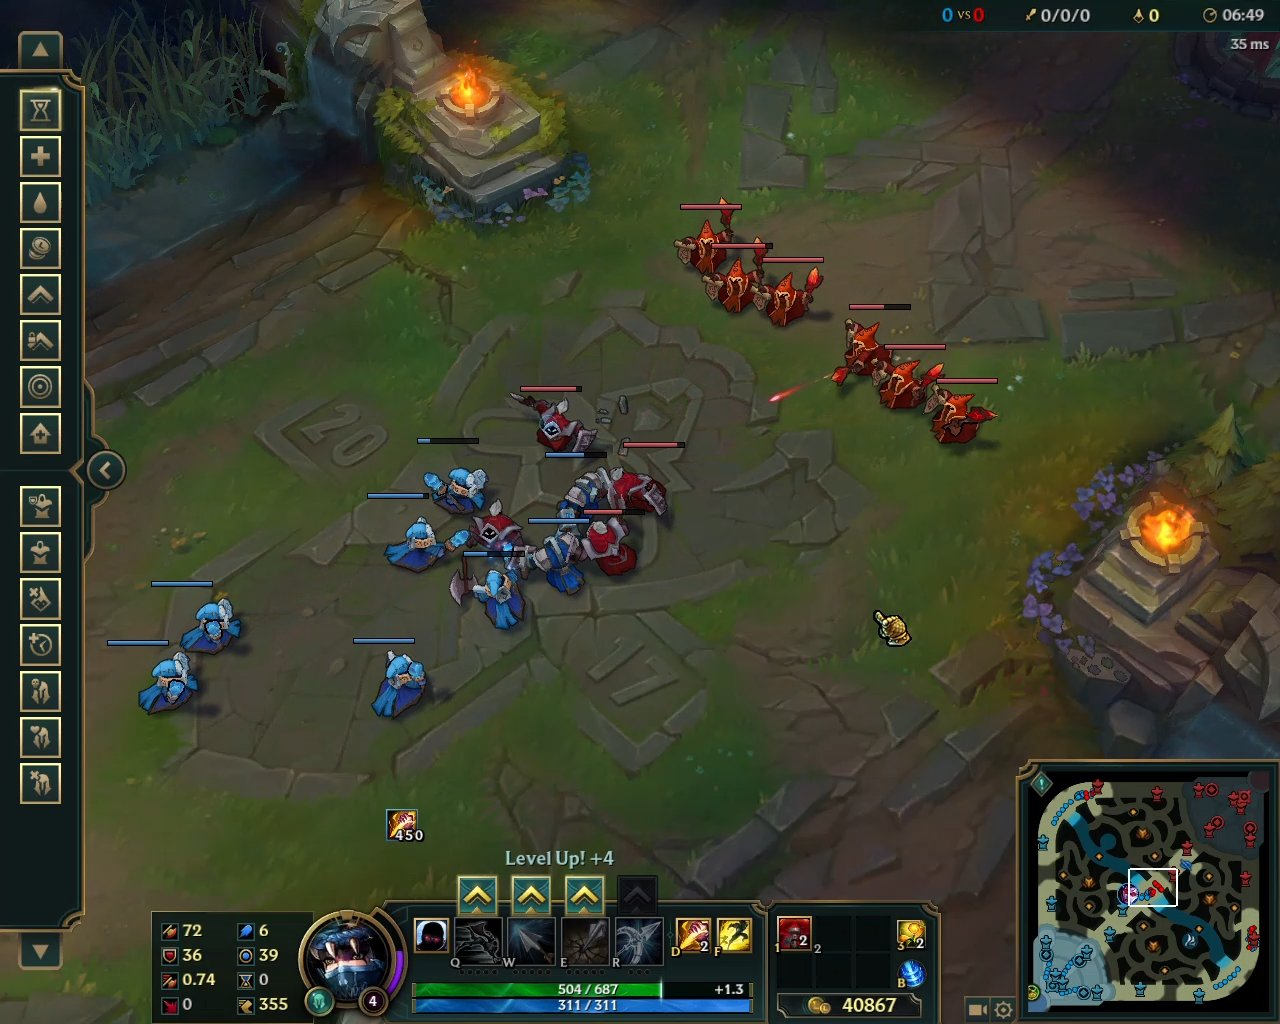EnemyMinion: (506, 385, 602, 466), (827, 302, 913, 388), (604, 440, 684, 520), (699, 235, 775, 320), (571, 506, 649, 582), (672, 197, 745, 277), (750, 255, 824, 332), (921, 377, 1000, 446), (870, 344, 949, 409)
